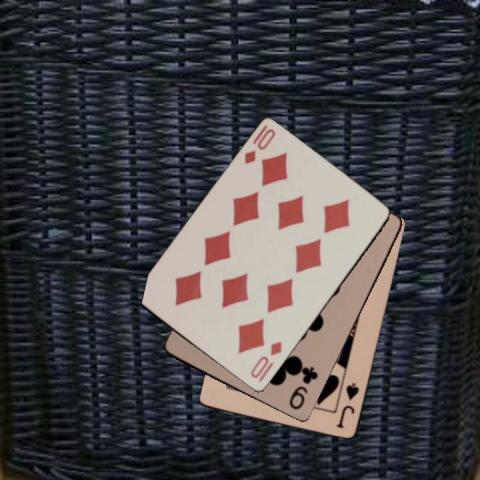10d: (242, 122, 278, 166), (248, 339, 284, 380)
9c: (286, 364, 320, 412)
Js: (334, 380, 361, 430)
